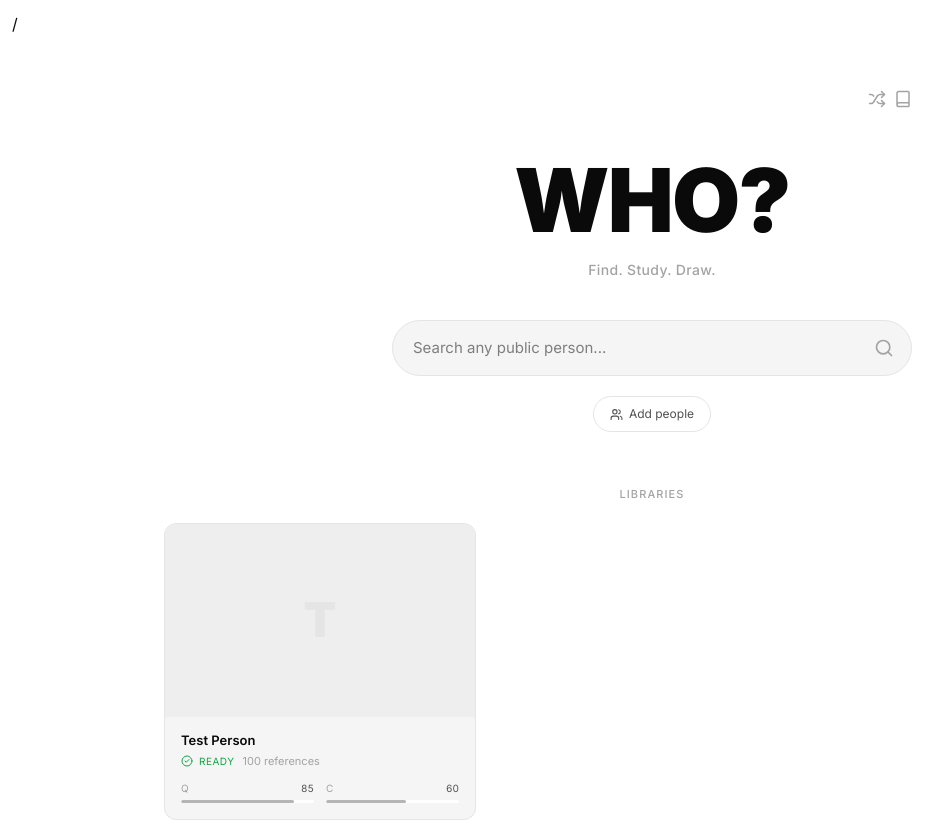
Scenario: HomePage › shuffle button navigates to /practice/random
This screenshot has width=929, height=837.
Click the button named "Random practice". click: (877, 99)
box: top-left (868, 90), bottom-right (886, 108)
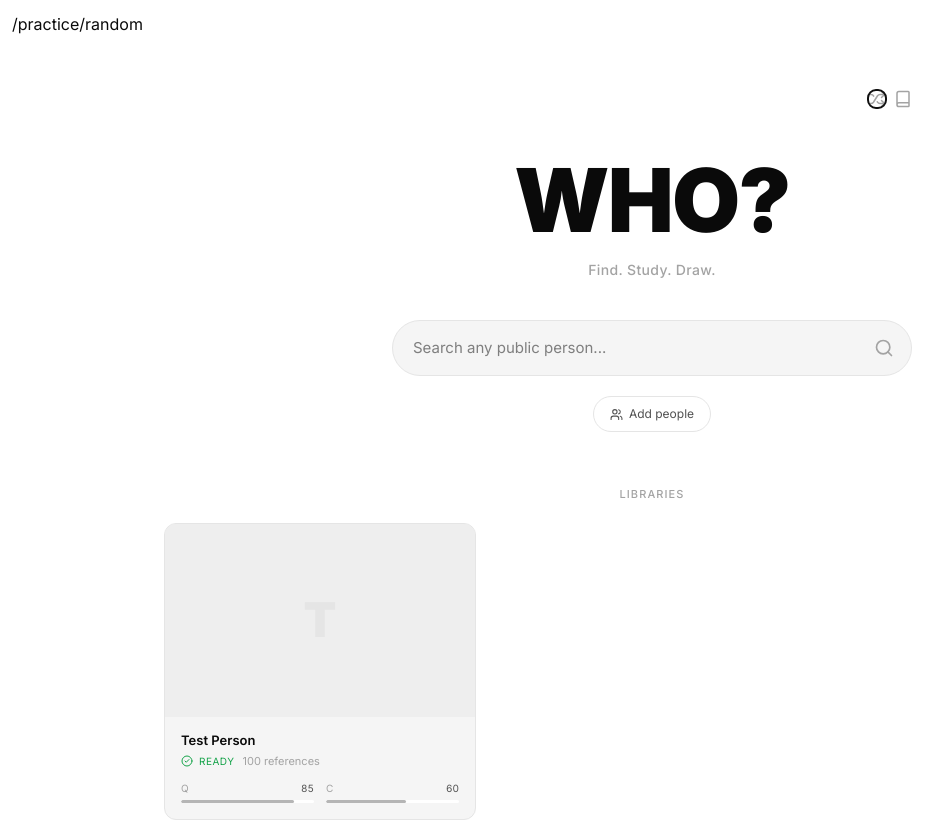
expect the text with test id "location" reads "/practice/random": met, box top-left (12, 14), bottom-right (143, 34)
